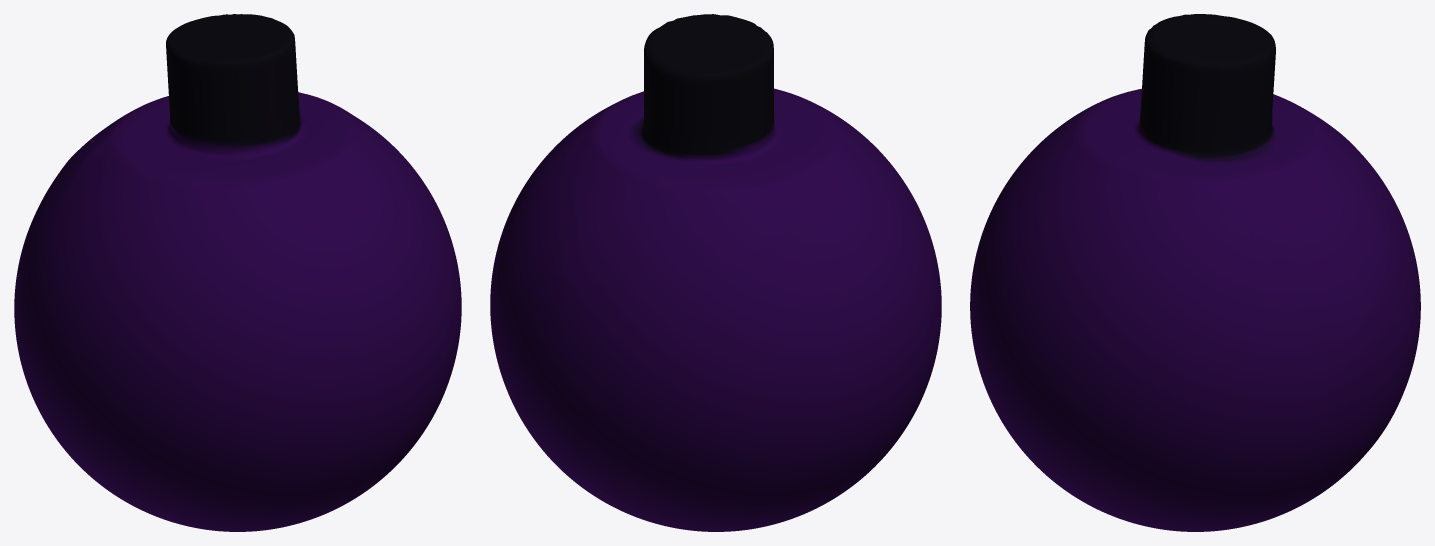
3 views of the same model, side by side, from view 1: azimuth 30°, elevation 25°; view 2: azimuth 150°, elevation 25°; view 3: azimuth 270°, elevation 25° (orthographic).
Visible parts, largest first — view 1: ReferenceModel_Selection_12; view 2: ReferenceModel_Selection_12; view 3: ReferenceModel_Selection_12.
Part boxes in pixels (left/top/right/bottom): ReferenceModel_Selection_12: left=14, top=14, right=461, bottom=531; ReferenceModel_Selection_12: left=490, top=14, right=941, bottom=531; ReferenceModel_Selection_12: left=970, top=14, right=1420, bottom=531.
Size of the model in its own units: 34.51 by 40.13 by 34.45.
